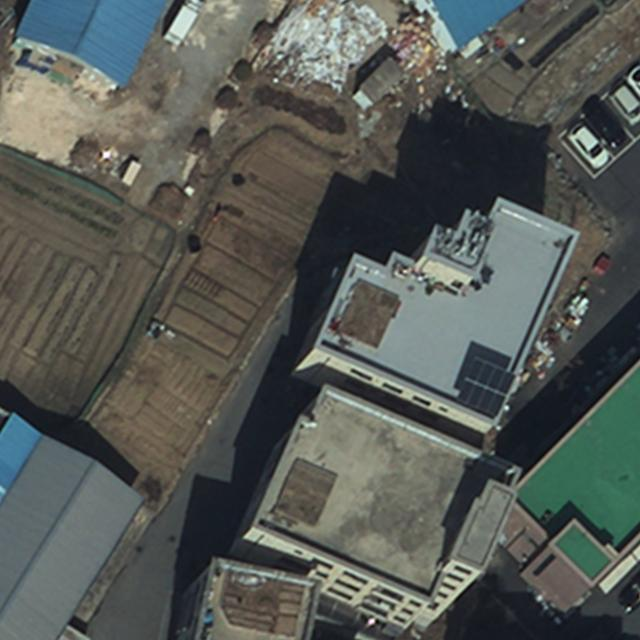panel: (456, 355, 519, 418)
